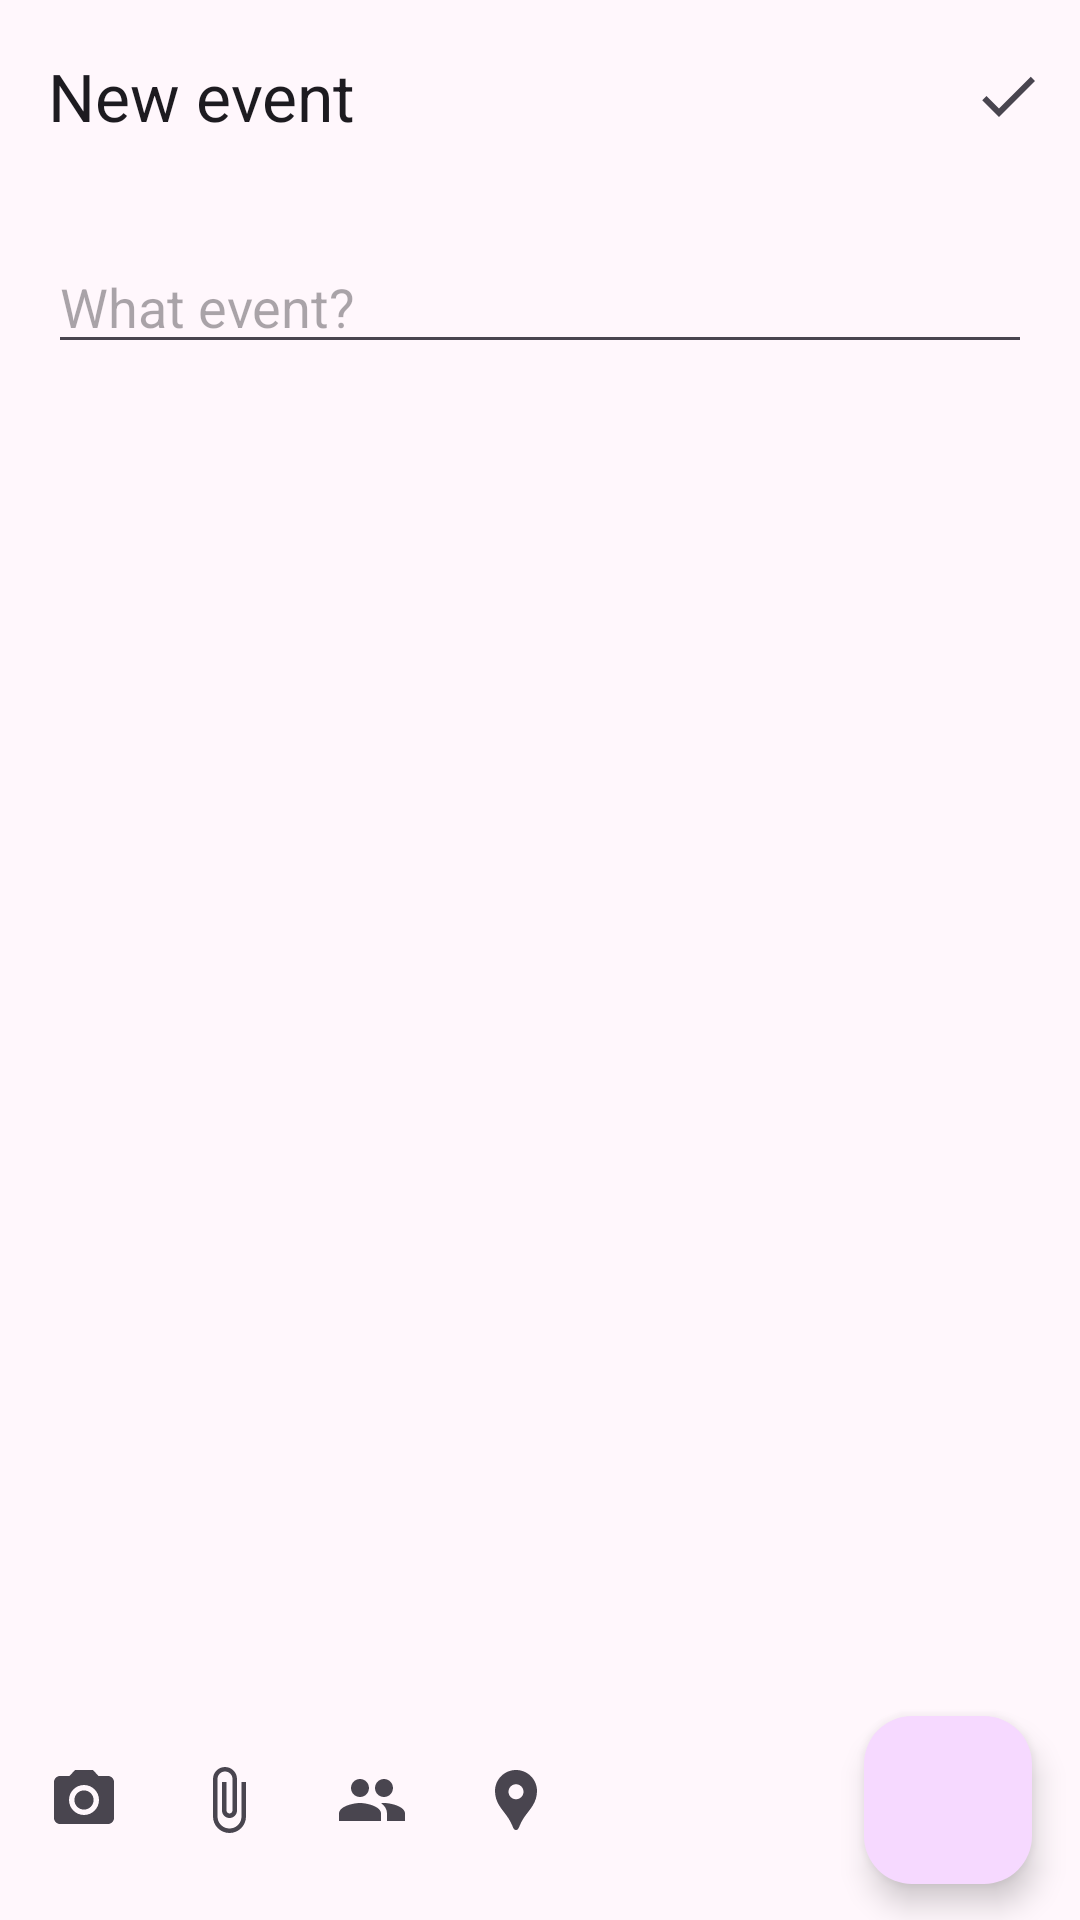

Screen size 1080 x 1920. Icon name, then its box in pixels as {"x1": x1, "y1": y1, "x2": x2, "y2": y2}:
Add file: {"x1": 213, "y1": 1767, "x2": 246, "y2": 1833}
Add location: {"x1": 495, "y1": 1770, "x2": 537, "y2": 1830}
Add photo: {"x1": 54, "y1": 1770, "x2": 114, "y2": 1824}
Choose users: {"x1": 339, "y1": 1779, "x2": 405, "y2": 1821}
